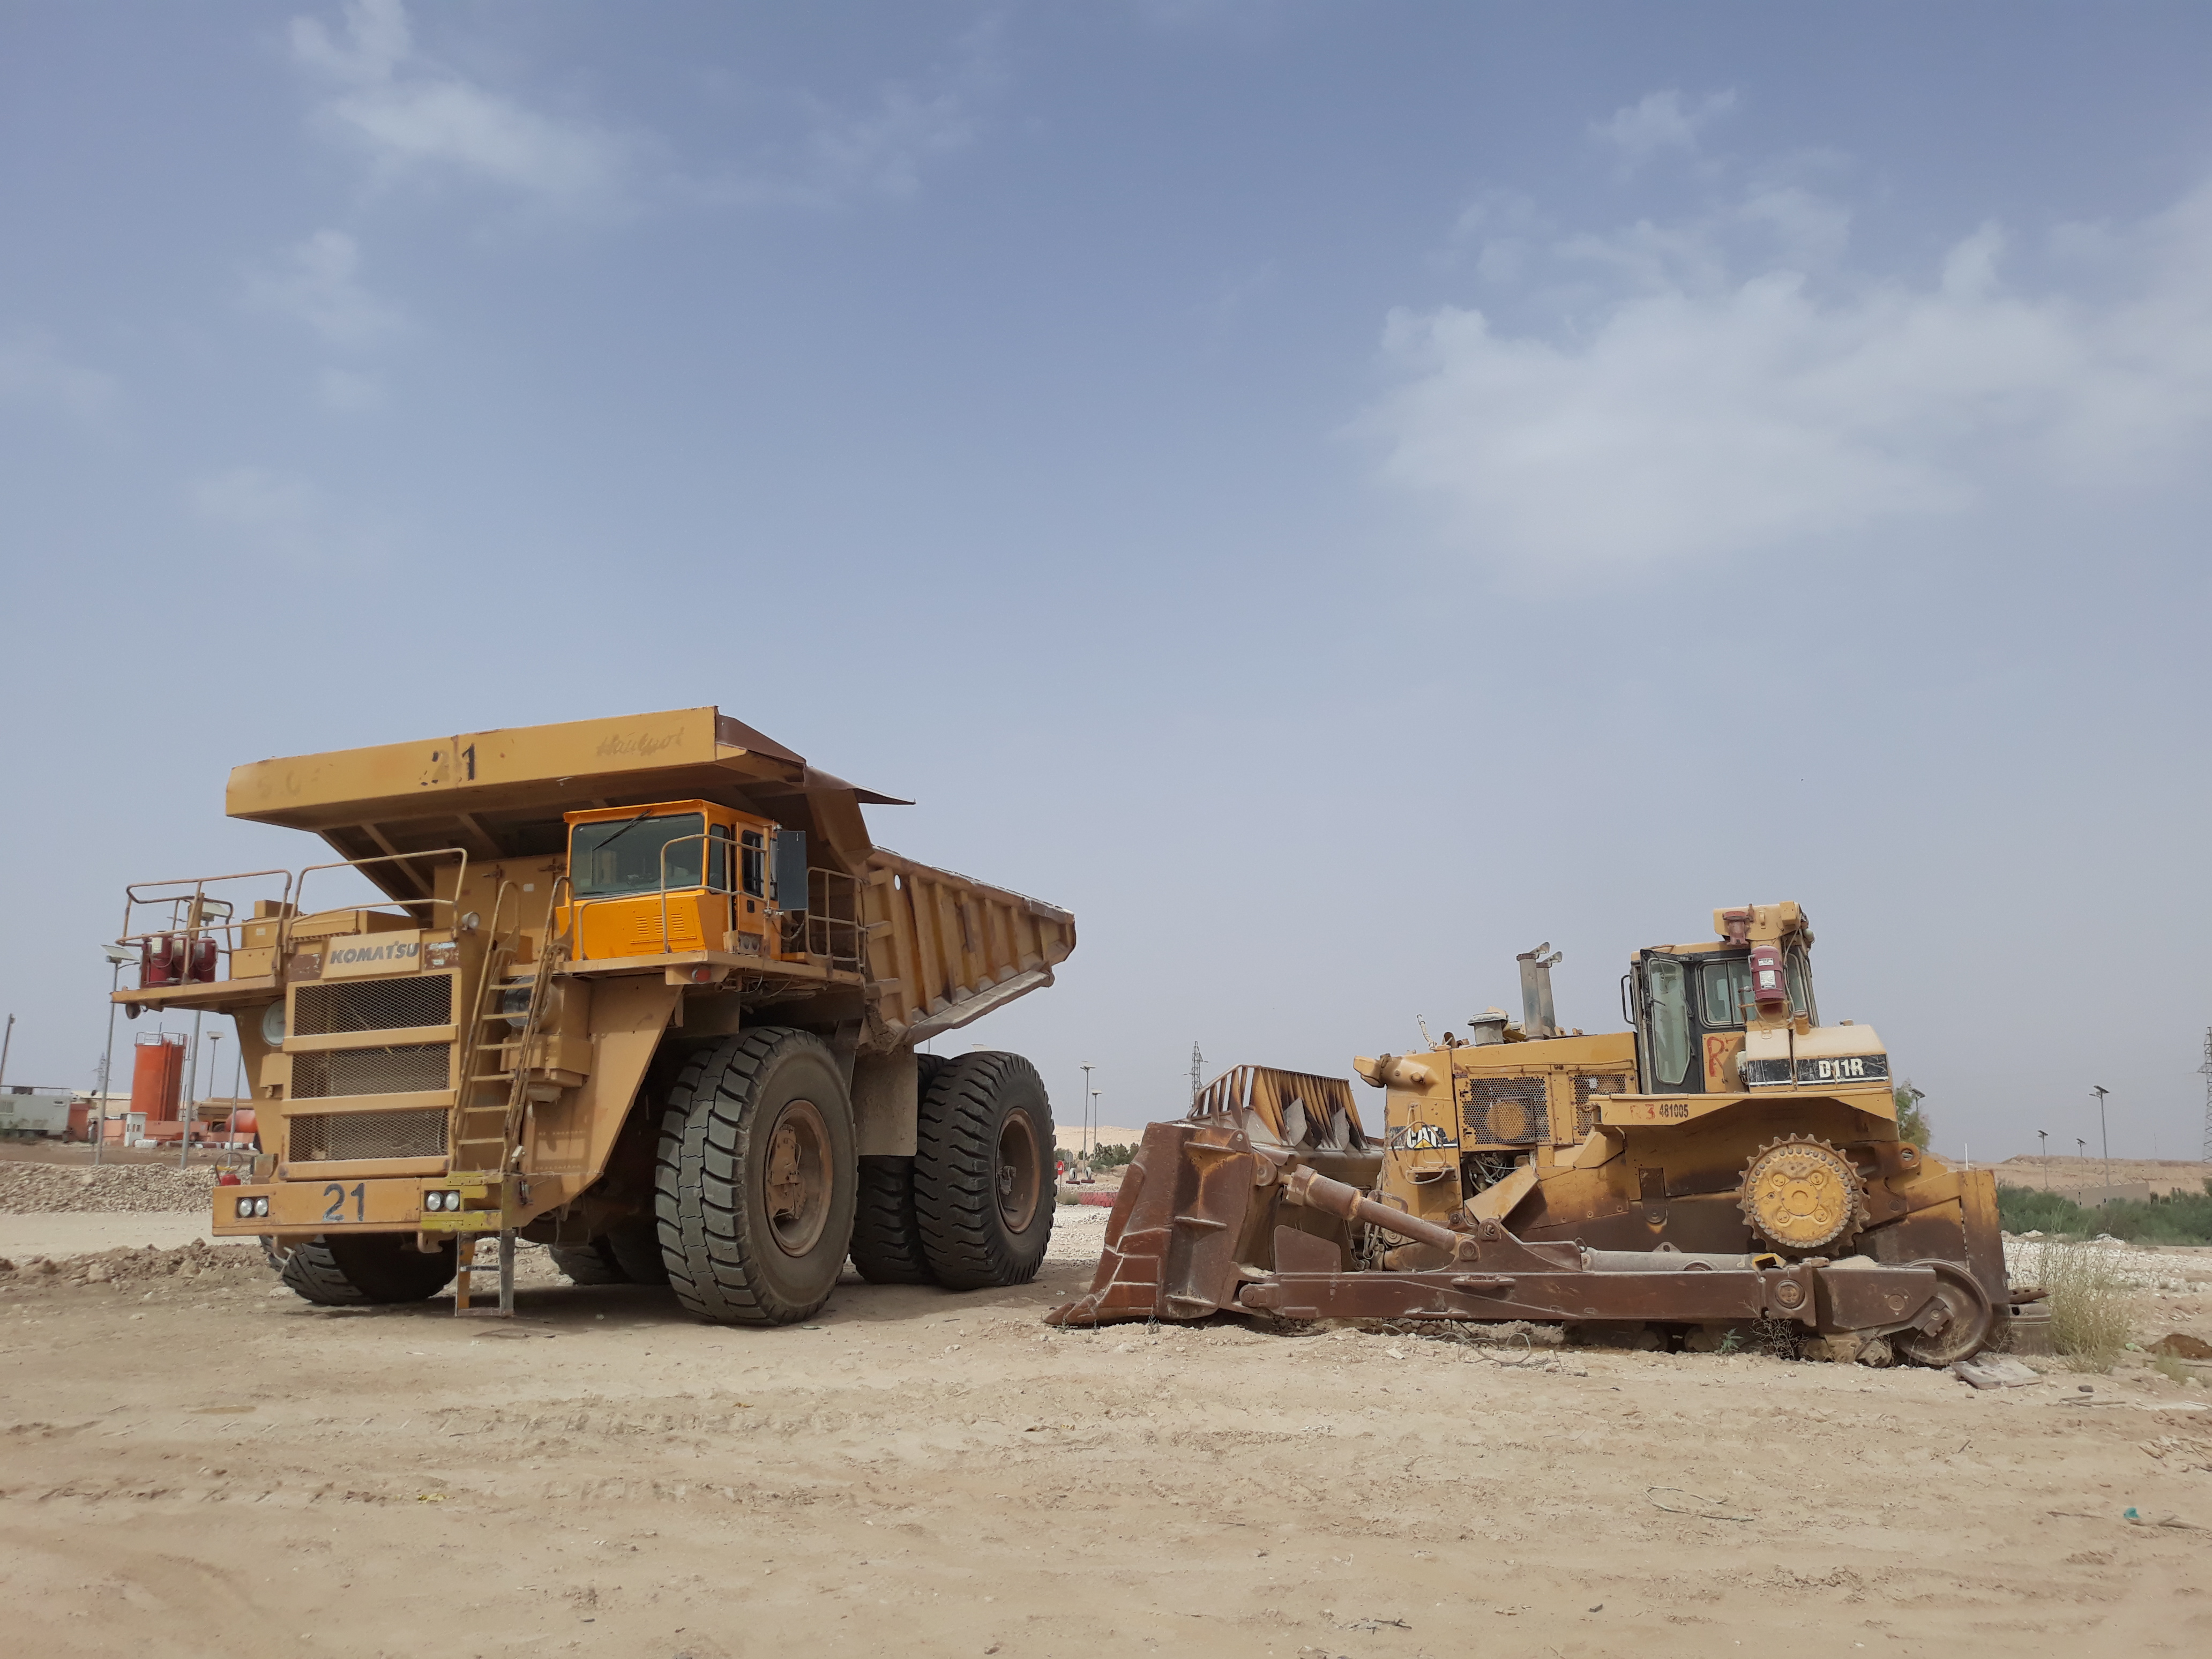bulldozer: (1082, 890, 2038, 1384)
camion: (146, 708, 1109, 1324)
